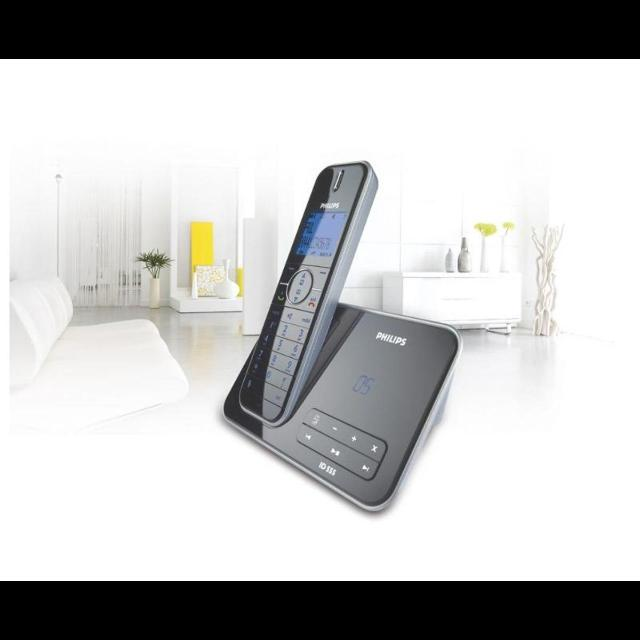Telephone-Set: (236, 132, 468, 528)
